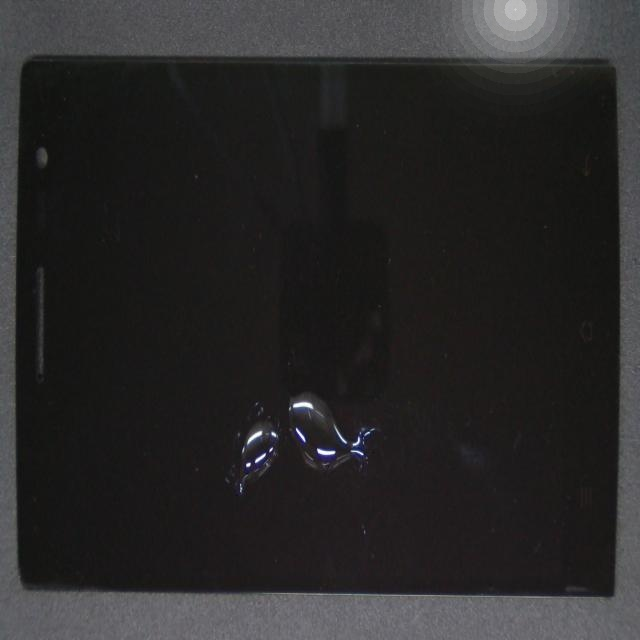oil: (175, 197, 471, 598), (139, 193, 370, 640)
